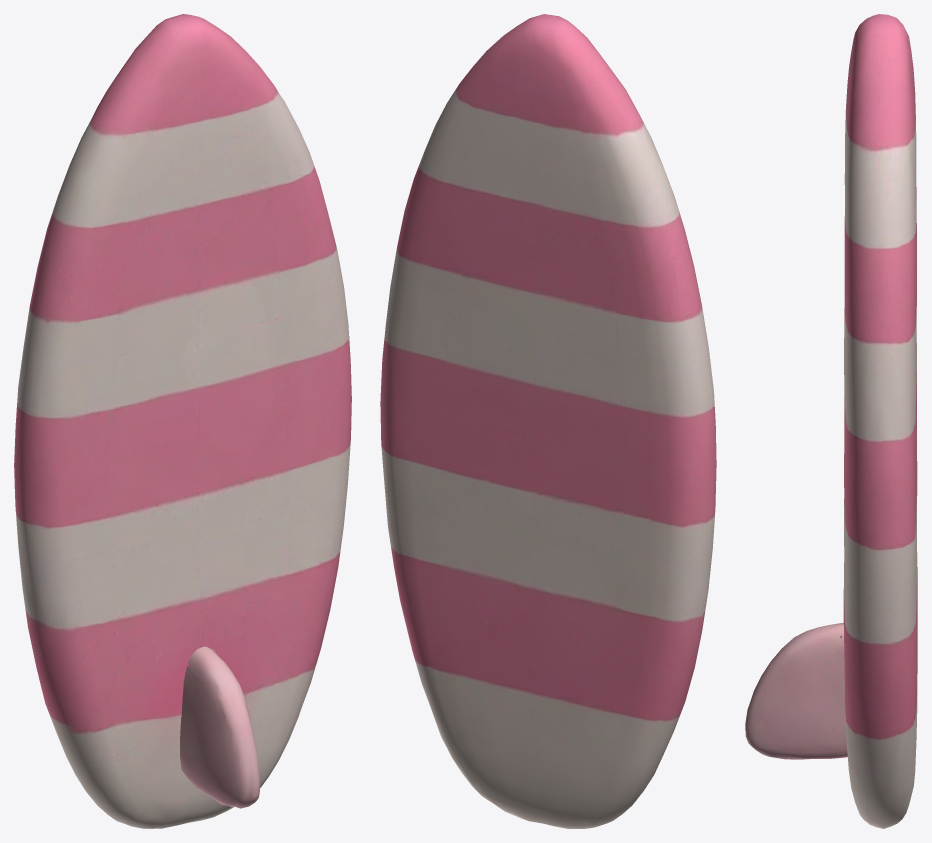
Rendered from surfboard-a.glb.
The picture shows the model from 3 angles, left to right: view 1: azimuth 30°, elevation 25°; view 2: azimuth 150°, elevation 25°; view 3: azimuth 270°, elevation 25°; orthographic projection.
Parts seen in each view (by area): view 1: geometry_0; view 2: geometry_0; view 3: geometry_0.
Part boxes in pixels (x1,y1,x2,y2): geometry_0: (14,14,351,828); geometry_0: (380,14,716,828); geometry_0: (745,14,917,828).
Bounding box in the file's own units: 0.4281 × 1 × 0.1984.
Materials: 1 (1 with a texture image).
